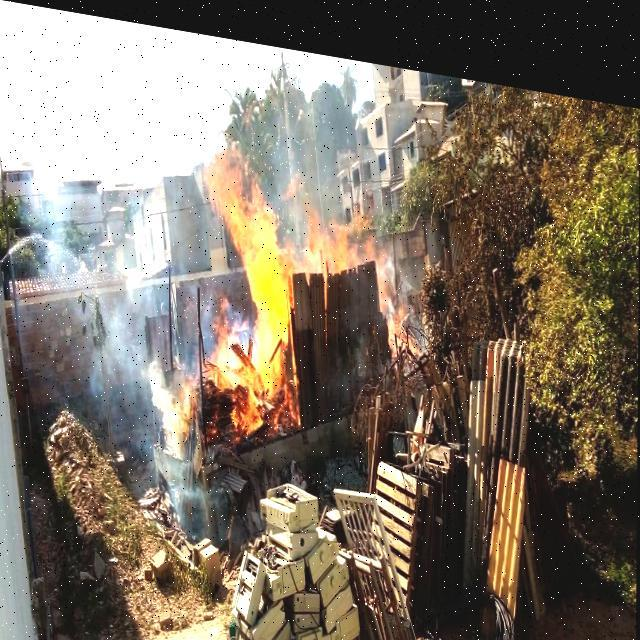Fire: (204, 130, 300, 416), (300, 157, 372, 258), (376, 230, 416, 338)
